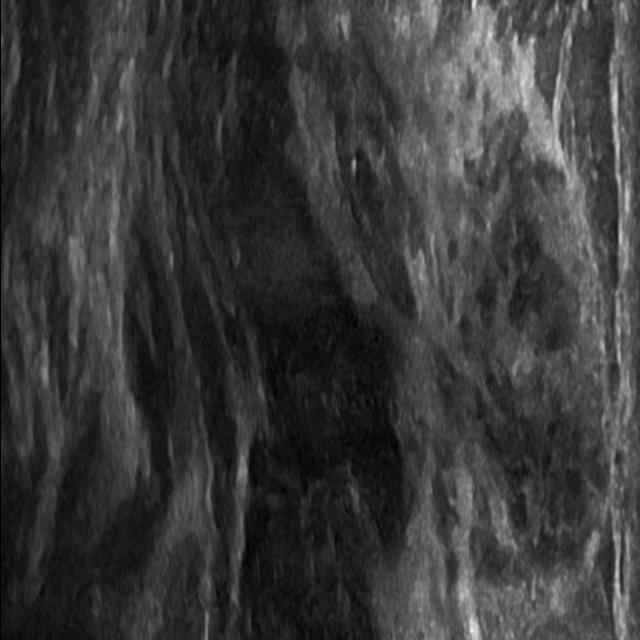Normal: (27, 22, 609, 620)
